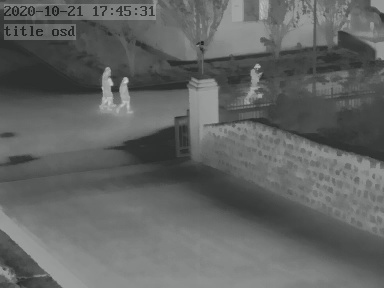person: (100, 68, 115, 109), (118, 73, 132, 114), (246, 63, 262, 98)
